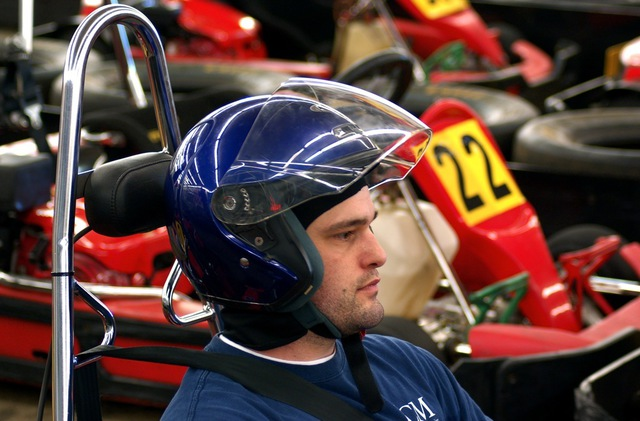helmet: (164, 100, 384, 301)
